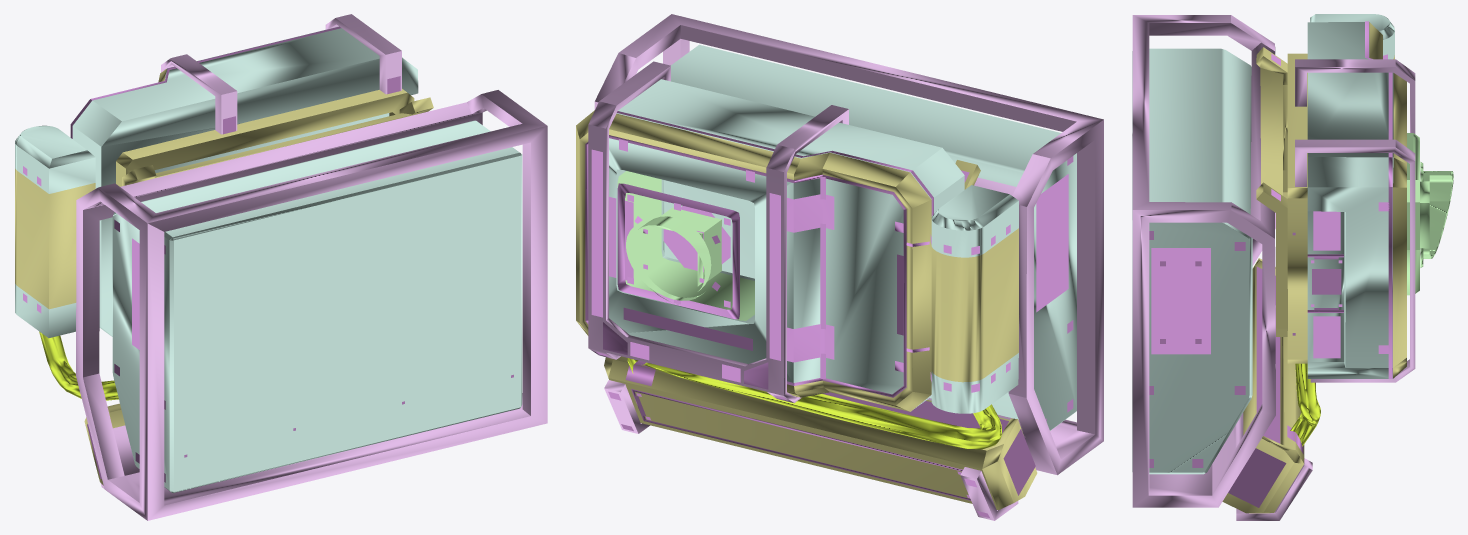
File: aircon_interior_3_a.glb
3 renders of one model, left to right at view 1: azimuth 30°, elevation 25°; view 2: azimuth 150°, elevation 25°; view 3: azimuth 270°, elevation 25°, orthographic. The views are drawn at different scales.
Bounding box in the file's own units: 1.5 × 1.24 × 1.02.
